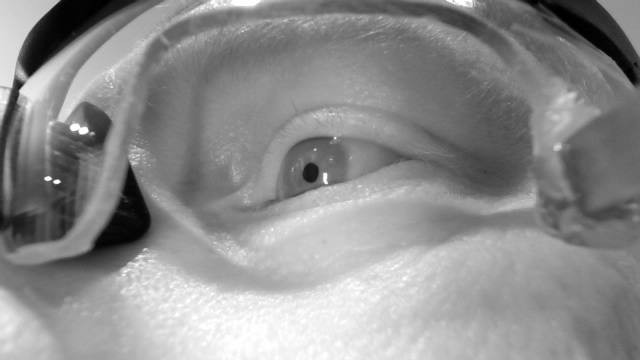pupil: (301, 162, 320, 184)
